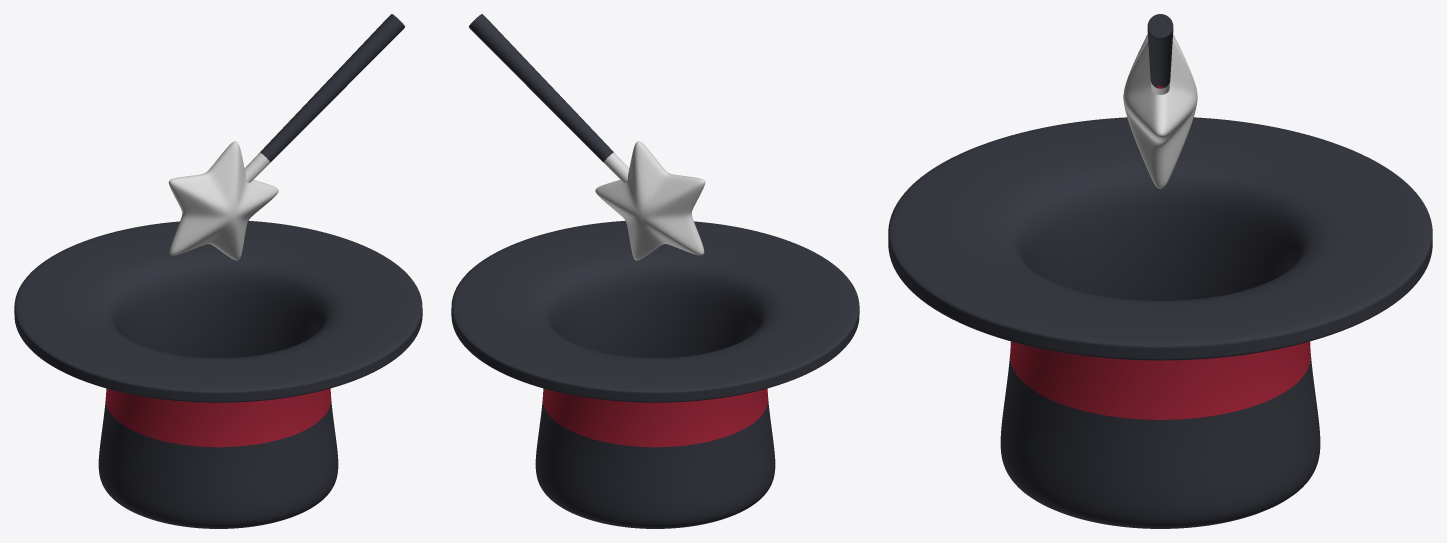
File: magic.fbx
3 renders of one model, left to right at view 1: azimuth 30°, elevation 25°; view 2: azimuth 150°, elevation 25°; view 3: azimuth 270°, elevation 25°, orthographic. The views are drawn at different scales.
Visible parts, largest first — view 1: Circle.006; view 2: Circle.006; view 3: Circle.006.
Boxes of the visible parts, bbox=[...] form: Circle.006: bbox=[14, 14, 422, 528]; Circle.006: bbox=[451, 14, 859, 528]; Circle.006: bbox=[888, 14, 1432, 528].
Bounding box in the file's own units: 165 × 186 × 161.
